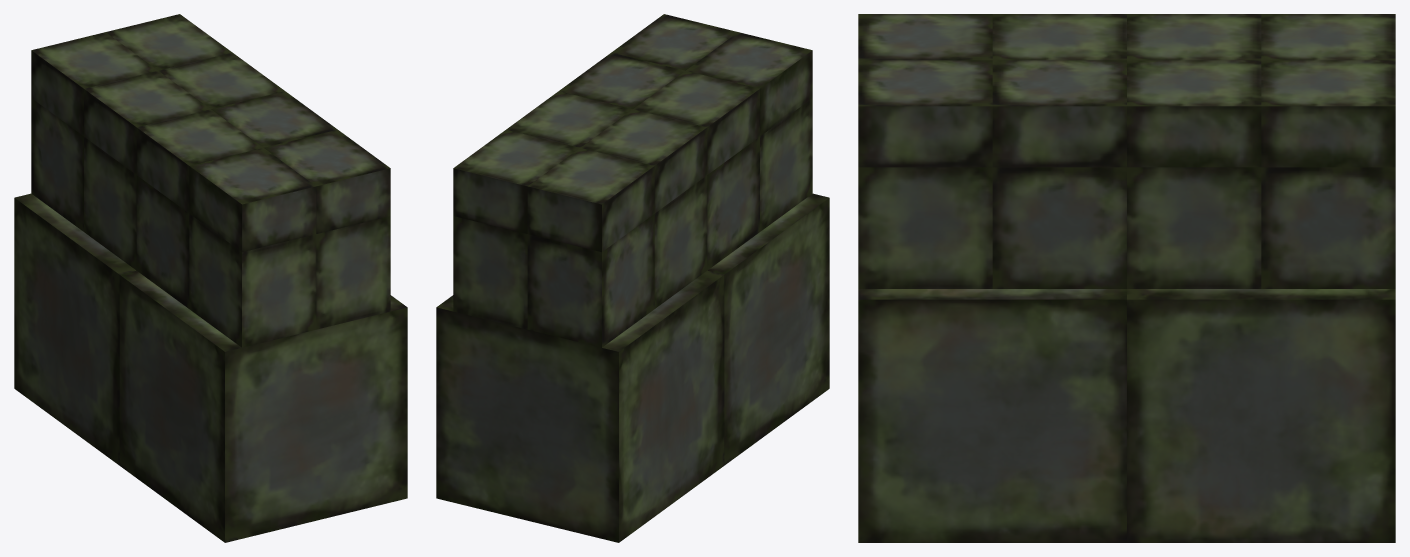
File: wall-01.fbx
3 views of the same model, side by side, from view 1: azimuth 30°, elevation 25°; view 2: azimuth 150°, elevation 25°; view 3: azimuth 270°, elevation 25° (orthographic). The views are drawn at different scales.
Parts seen in each view (by area): view 1: wall_1; view 2: wall_1; view 3: wall_1.
Boxes of the visible parts, left/top/right/bottom form: wall_1: left=14, top=14, right=407, bottom=542; wall_1: left=436, top=14, right=829, bottom=542; wall_1: left=858, top=14, right=1395, bottom=542.
Bounding box in the file's own units: 200 × 350 × 400.
